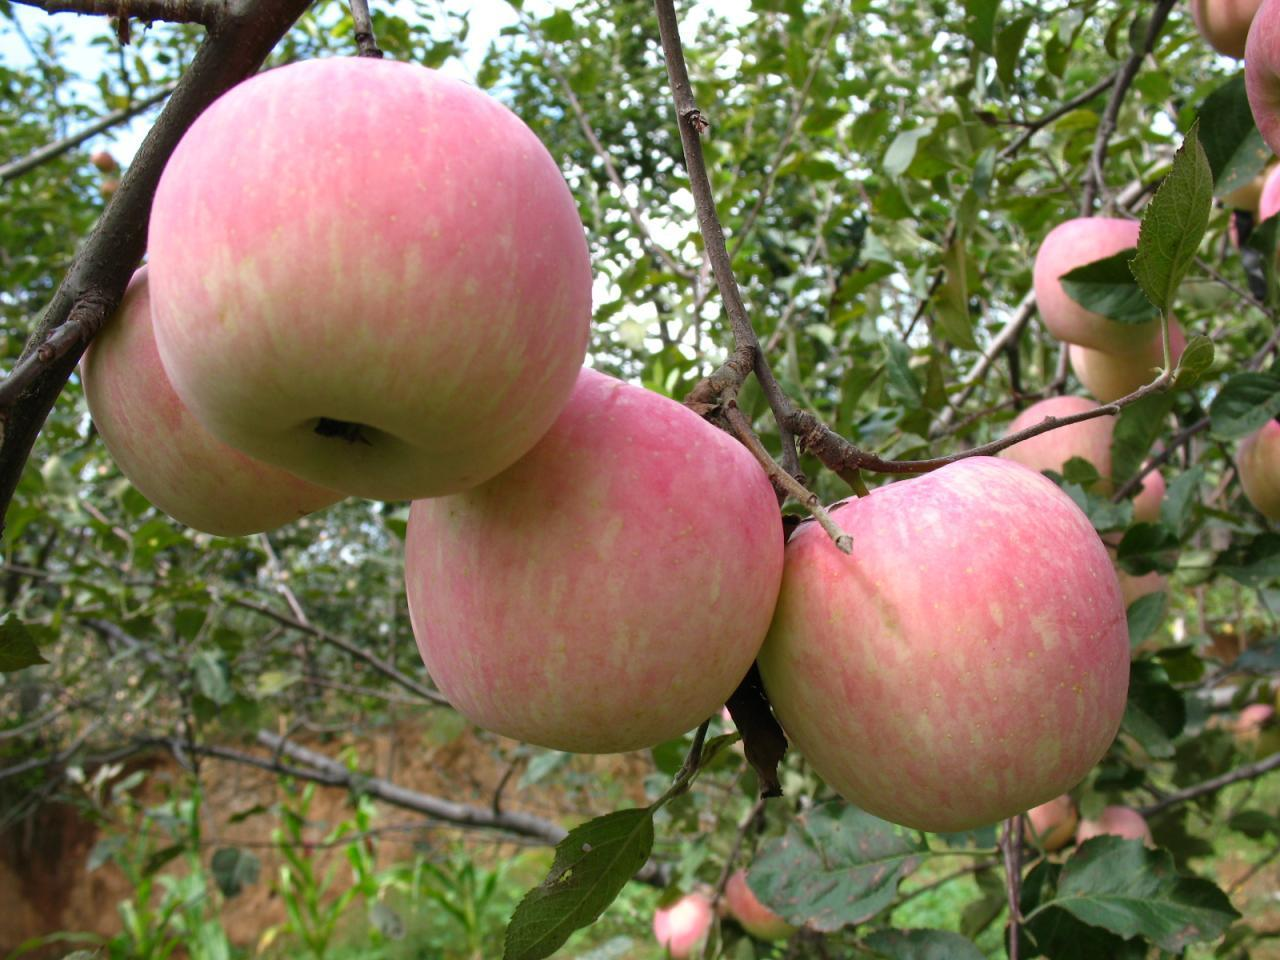apple: (212, 276, 1146, 899), (539, 419, 1027, 835), (141, 65, 595, 501), (395, 371, 786, 772), (725, 466, 1128, 855), (1031, 206, 1181, 402), (1233, 416, 1279, 526), (721, 872, 790, 938), (650, 891, 712, 957)
